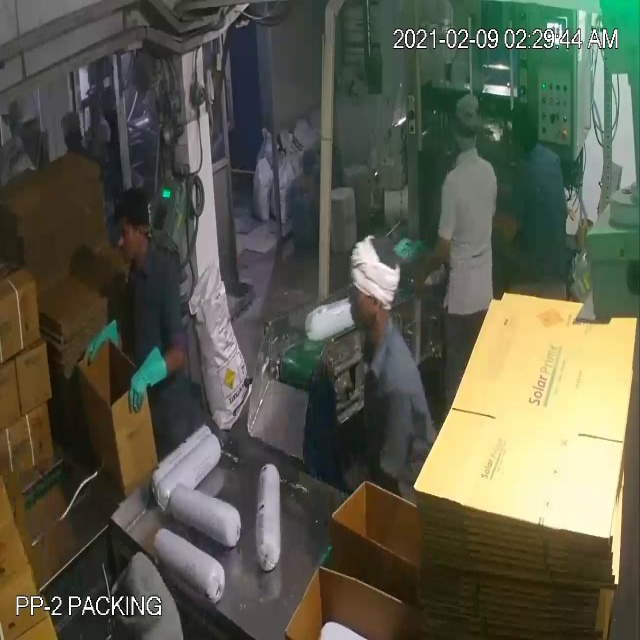Guantes: (121, 342, 176, 412), (75, 310, 127, 364)
Sin_guantes: (403, 237, 458, 299)
